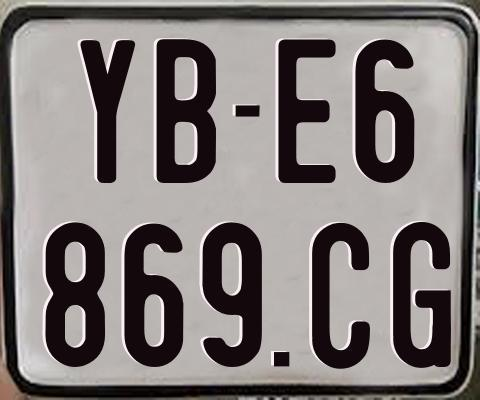6: (124, 221, 189, 370), (355, 39, 416, 187)
8: (45, 219, 108, 366)
9: (201, 219, 262, 367)
B: (155, 38, 220, 182)
C: (310, 223, 371, 372)
E: (277, 39, 340, 188)
G: (391, 221, 449, 370)
Y: (78, 40, 138, 185)
